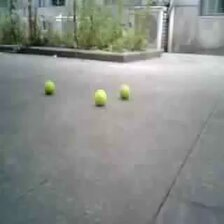tennis: (94, 89, 106, 106), (120, 86, 131, 99), (44, 80, 54, 93)
